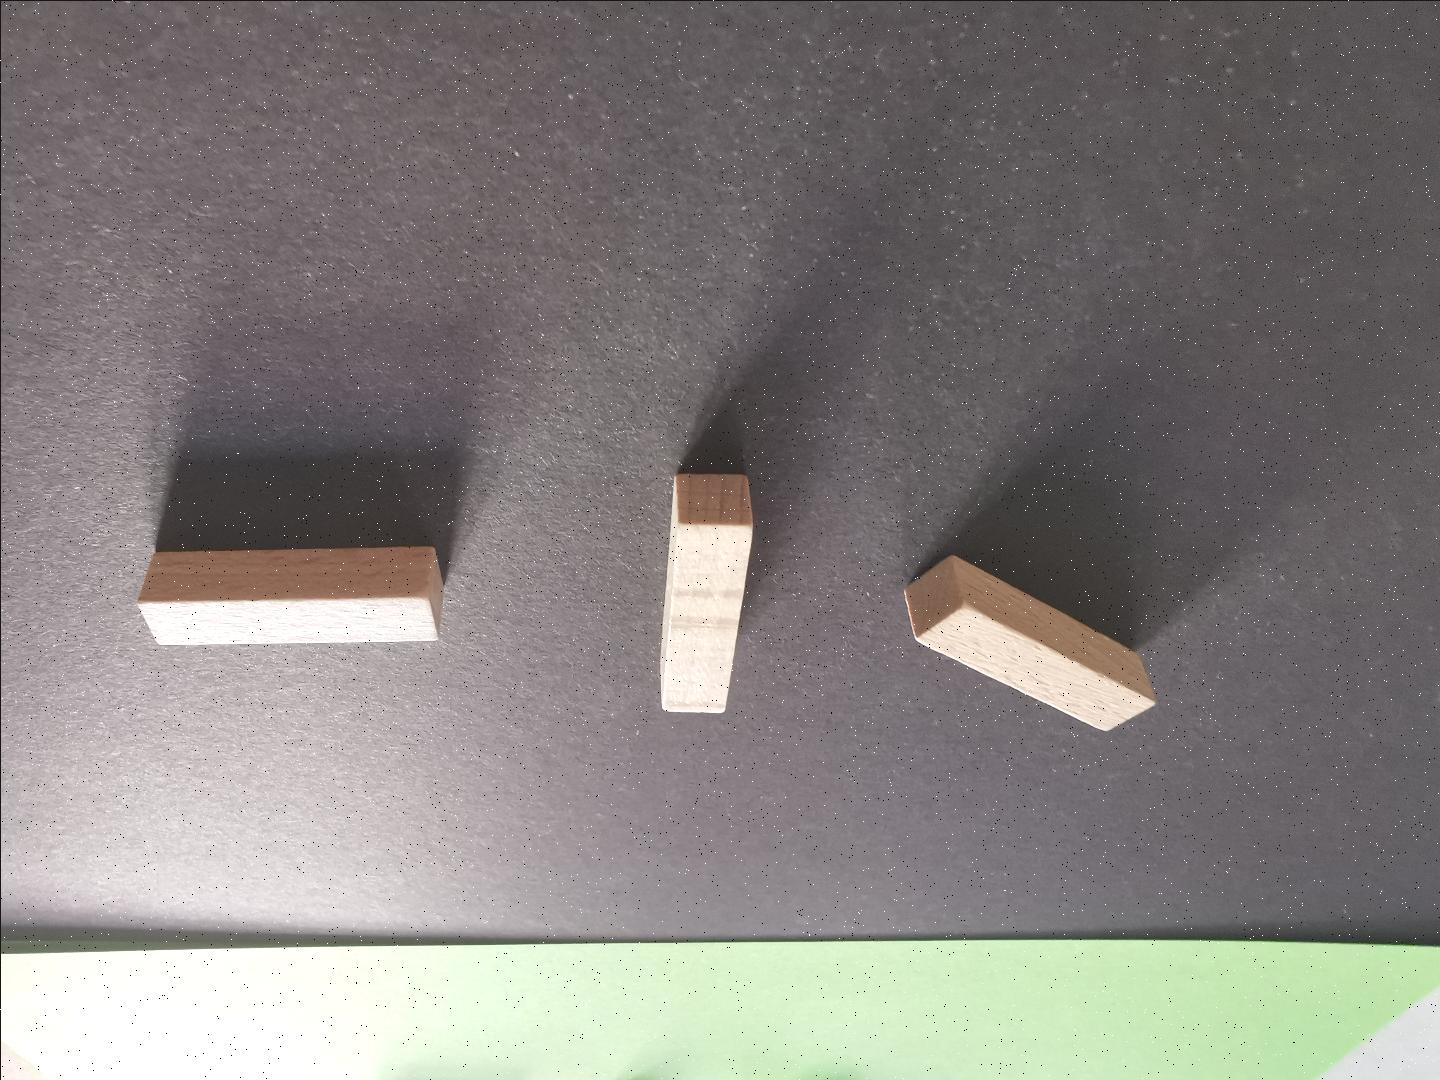jenga: (906, 554, 1153, 728), (138, 546, 441, 644), (661, 472, 751, 711)
